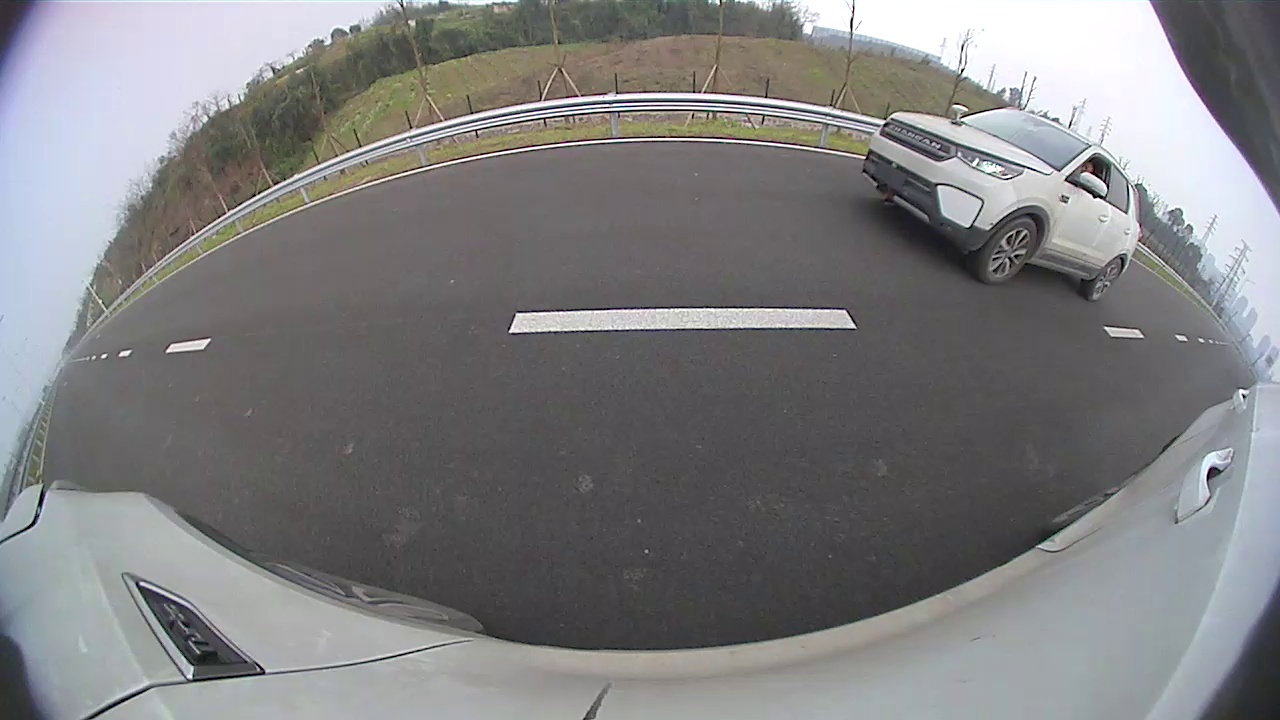car: (862, 108, 1139, 303)
front: (973, 215, 1045, 288)
rear: (1081, 252, 1124, 305)
